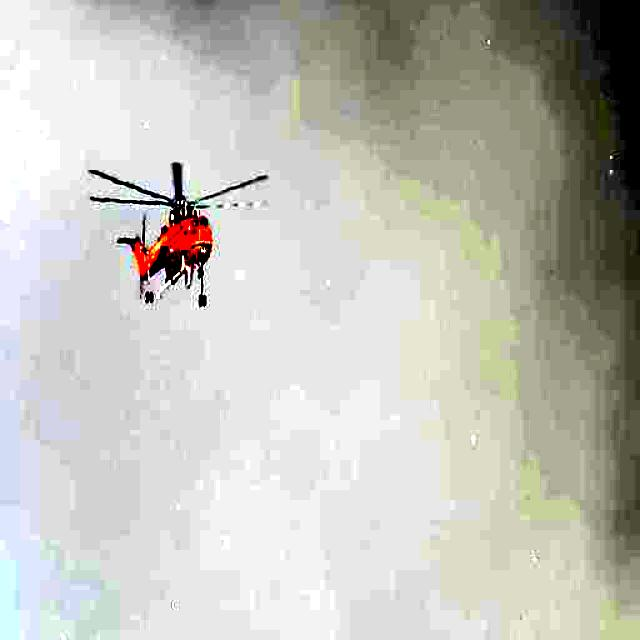drone: (82, 141, 261, 319)
